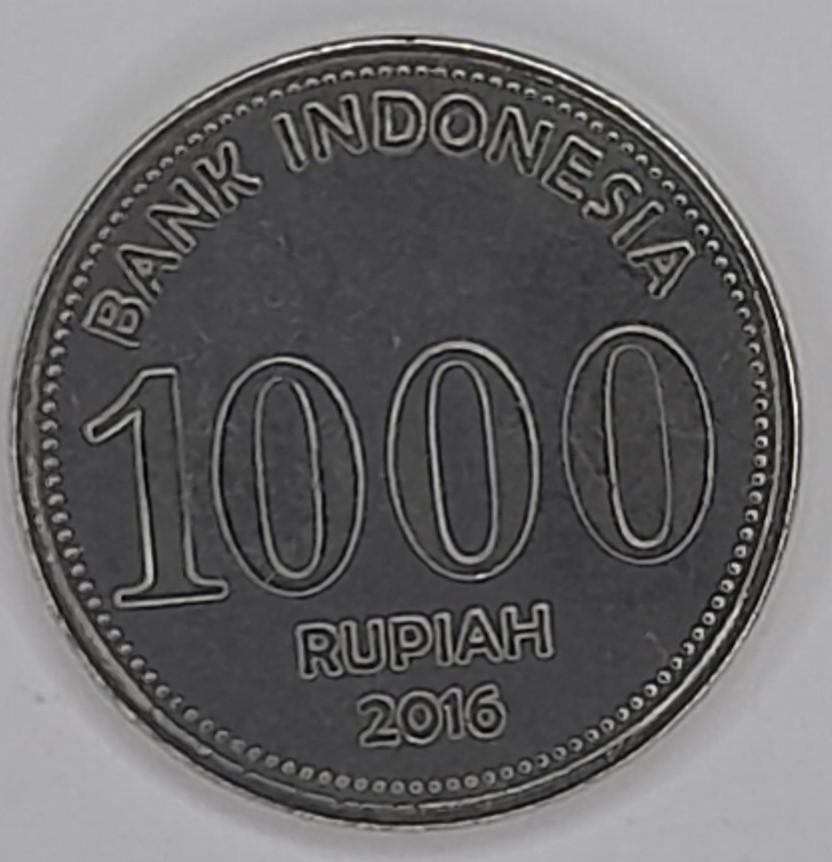coin_1000_e2016: (14, 17, 821, 862)
